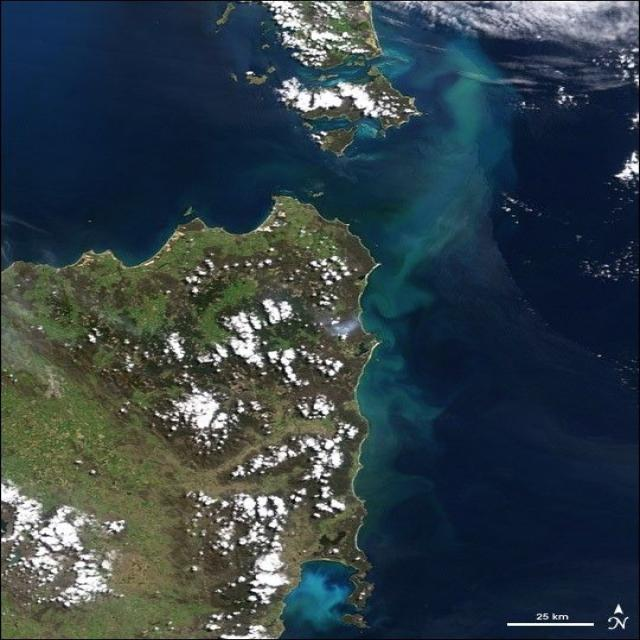algal: (354, 295, 404, 540)
oil spill: (405, 80, 491, 527), (283, 562, 353, 637)
